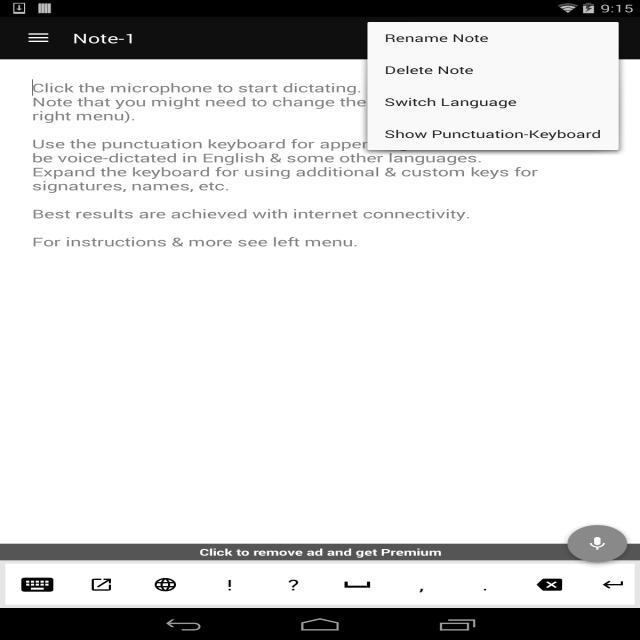ImageButton: (560, 520, 634, 567), (12, 570, 64, 596), (82, 571, 123, 594), (336, 574, 386, 591), (593, 575, 632, 595), (146, 573, 183, 594), (532, 574, 568, 593), (21, 31, 54, 50)
TextView: (24, 135, 364, 195), (27, 81, 358, 125), (31, 207, 472, 222), (23, 234, 371, 251), (373, 126, 612, 145), (185, 543, 458, 559), (377, 94, 529, 110), (380, 30, 501, 48), (376, 60, 486, 78), (70, 29, 144, 50)
